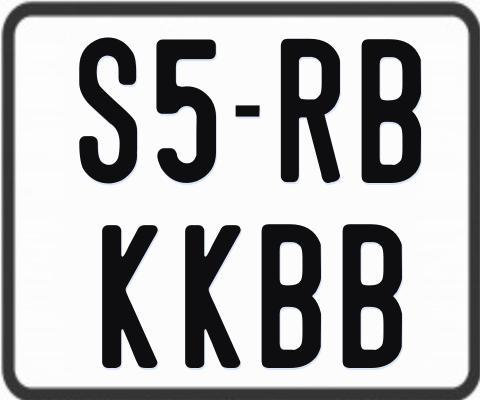5: (154, 40, 215, 186)
B: (361, 39, 425, 187), (342, 223, 404, 373), (259, 223, 320, 373)
K: (184, 224, 246, 373), (100, 224, 162, 370)
R: (279, 37, 341, 183)
S: (77, 35, 137, 181)
